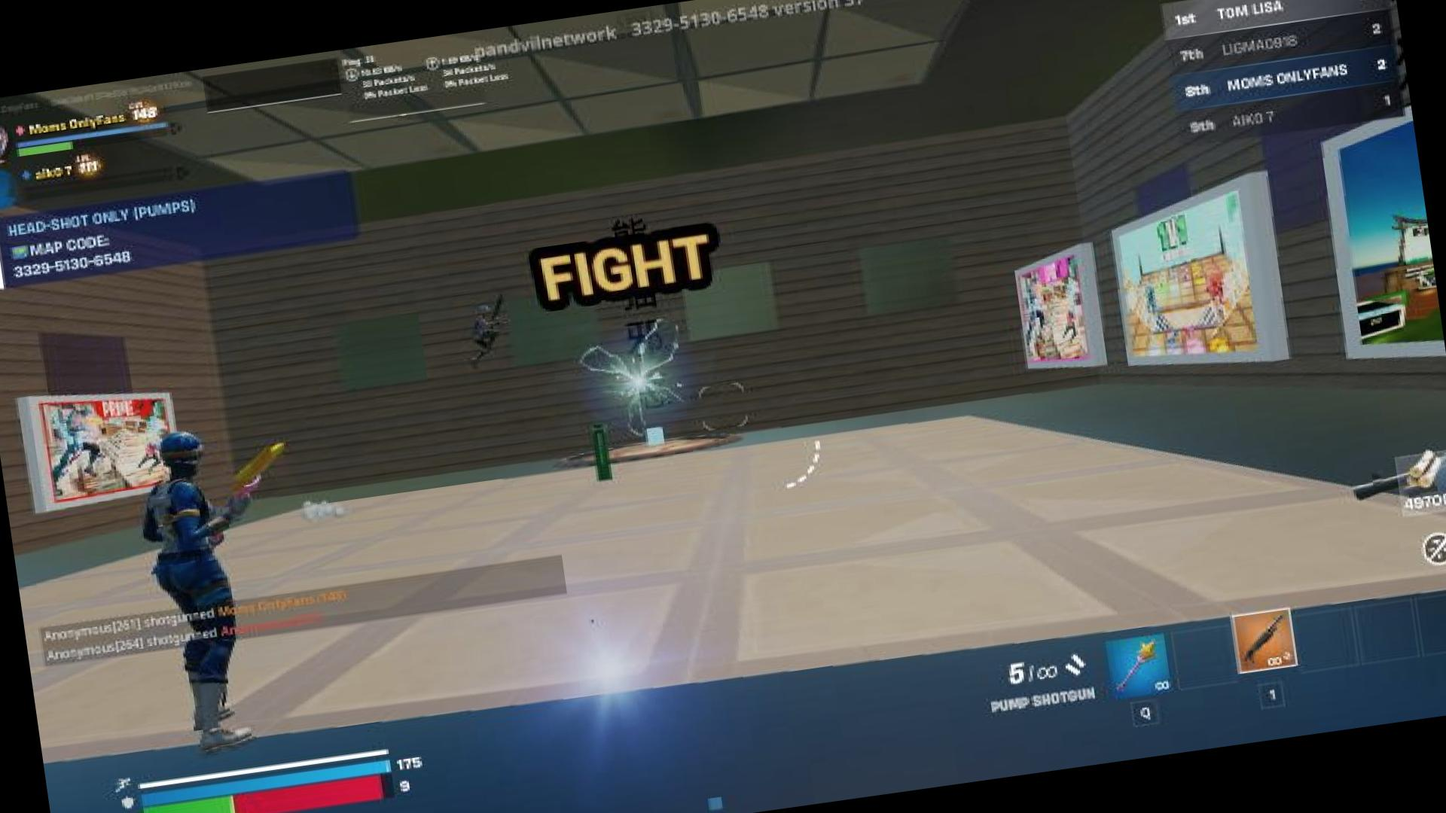player: (122, 408, 282, 766)
